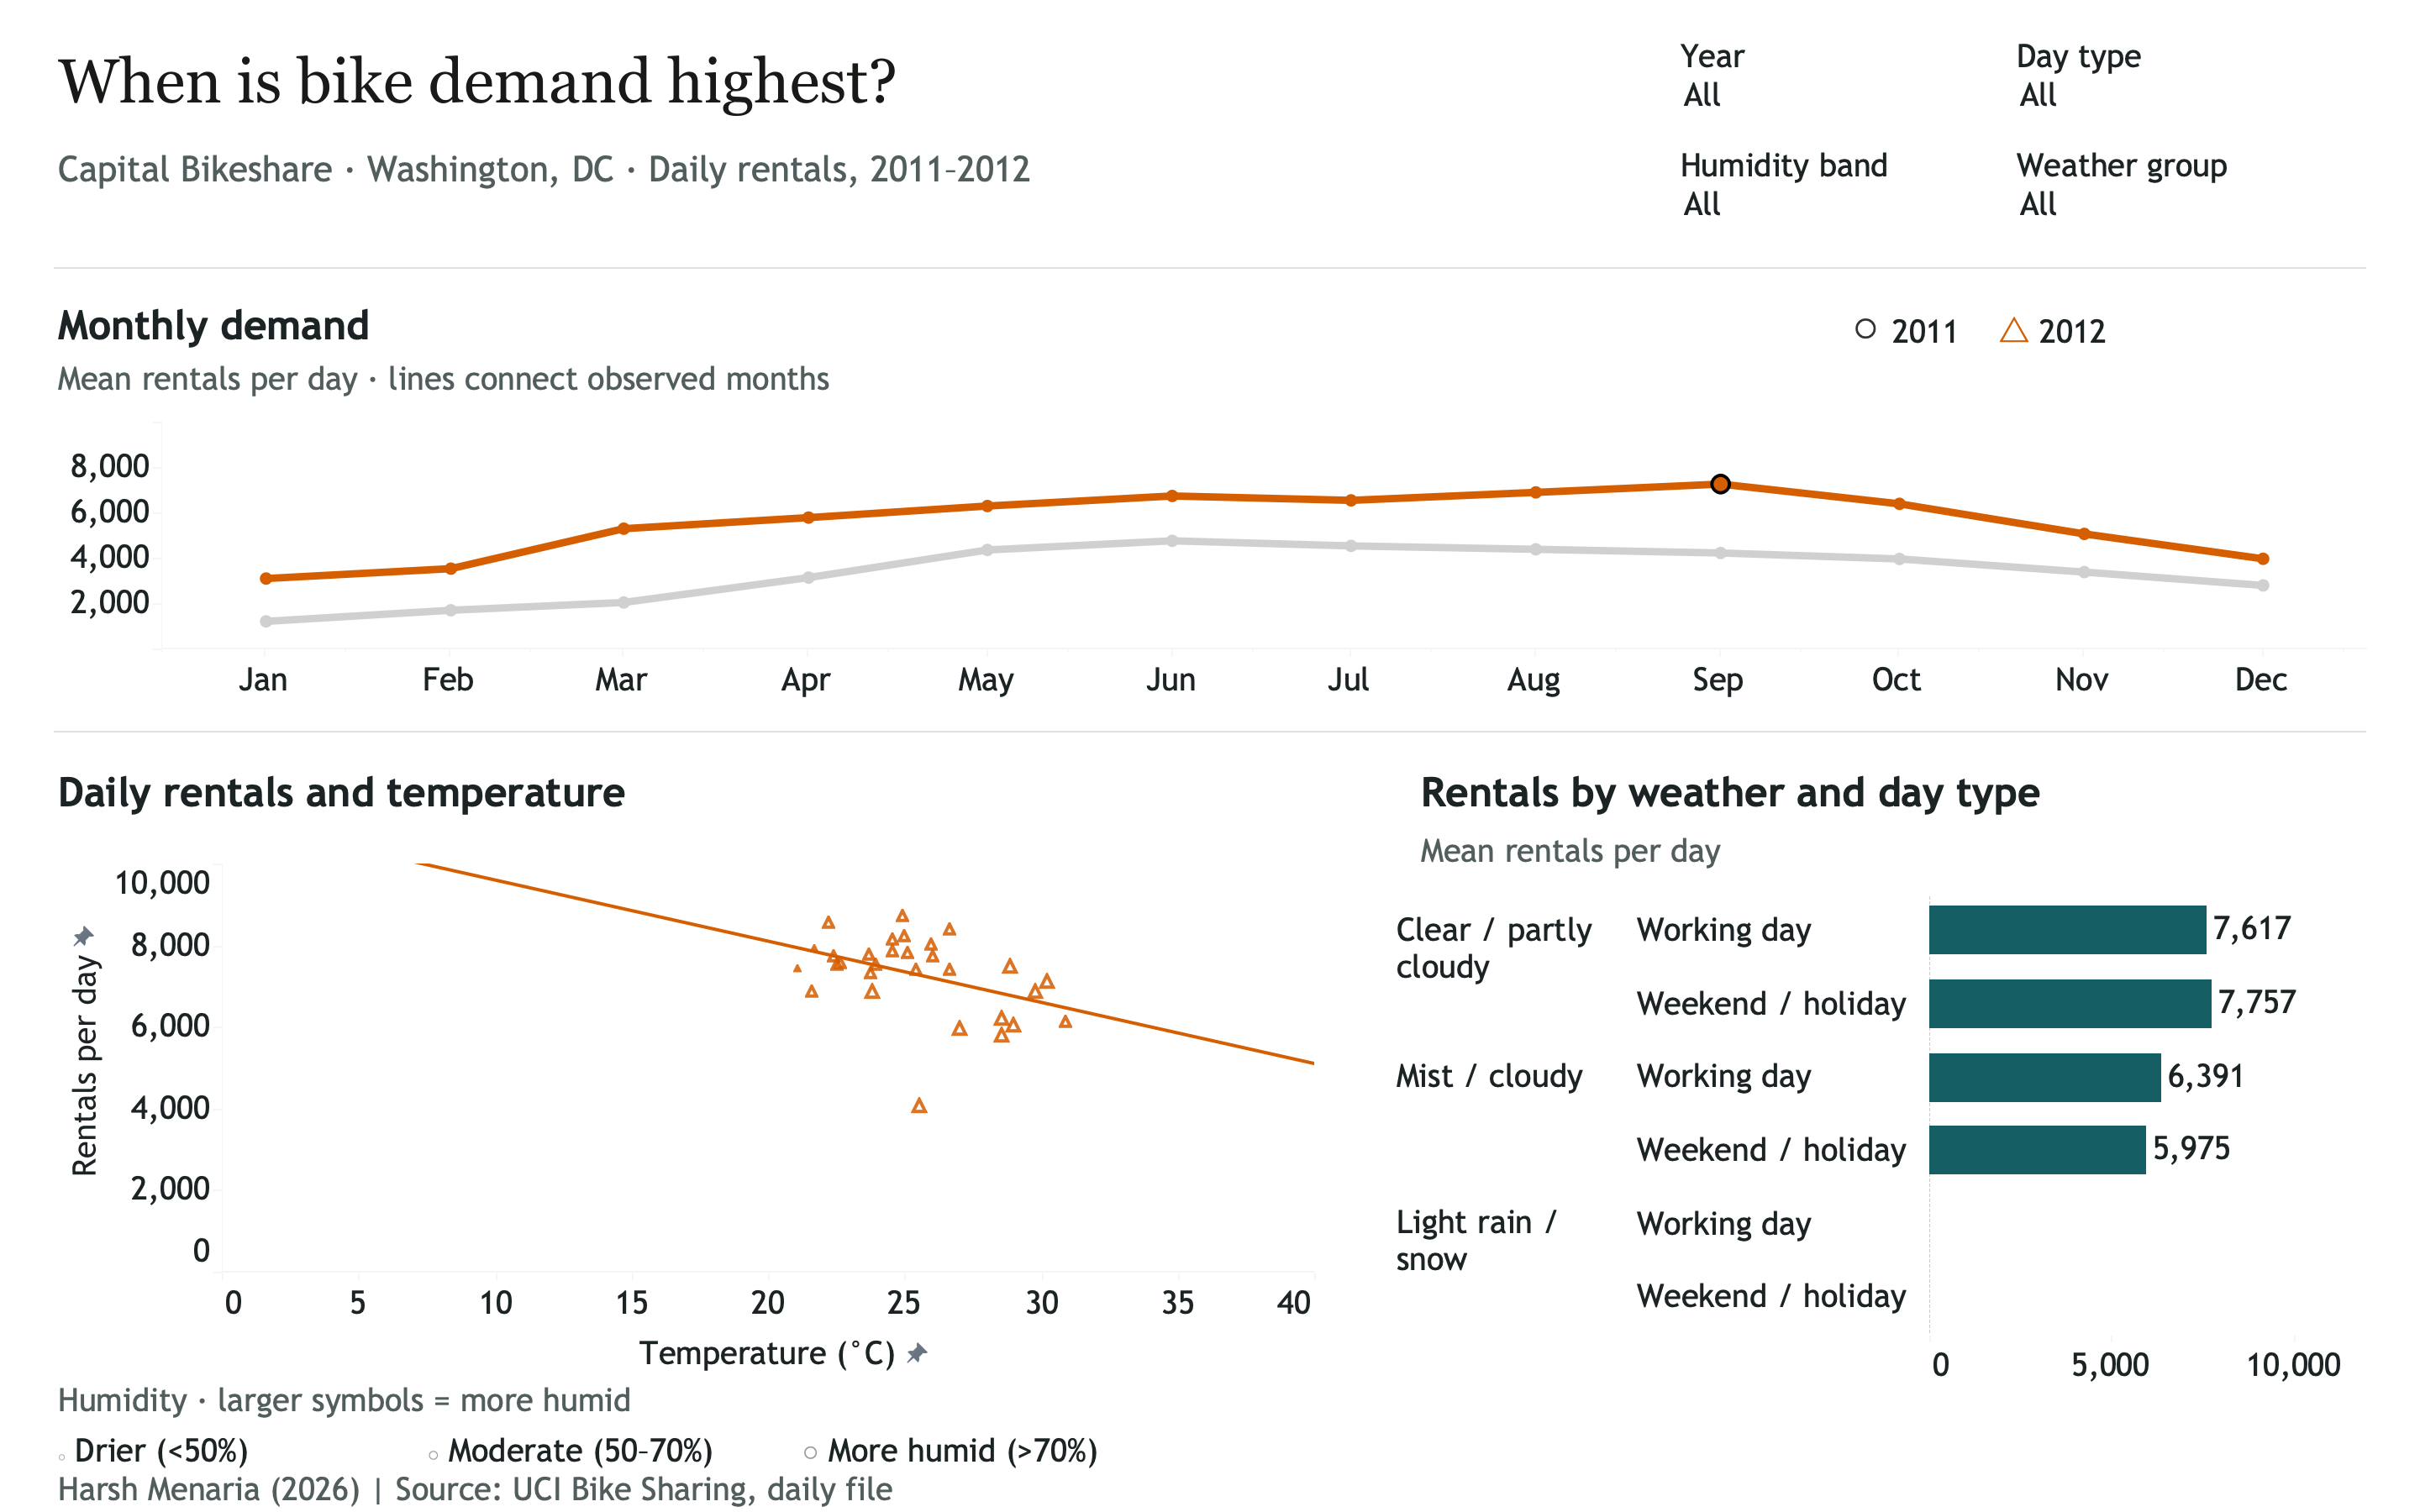

Layout of this report page (visuals, bound fields, positions):
{"tool":"tableau","page":{"name":"Bike demand | Prototype","canvas":[1440,900],"ordinal":0},"visuals":[{"type":"blank","box":[0,0,1440,900]},{"type":"filter","title":"01 Monthly demand","param":"[federated.bike_demand].[none:Year:nk]","box":[1000,21,180,54]},{"type":"filter","title":"01 Monthly demand","param":"[federated.bike_demand].[none:DayType:nk]","box":[1200,21,208,54]},{"type":"text","box":[32,23,925,52]},{"type":"text","box":[32,86,925,30]},{"type":"filter","title":"02 Temperature and rentals","param":"[federated.bike_demand].[none:Calculation_1907443823489024:nk]","box":[1000,86,180,54]},{"type":"filter","title":"01 Monthly demand","param":"[federated.bike_demand].[none:Weather:nk]","box":[1200,86,208,54]},{"type":"blank","box":[32,159,1376,1]},{"type":"text","box":[1100,178,308,34]},{"type":"text","box":[32,179,1376,29]},{"type":"text","box":[32,214,1376,24]},{"type":"worksheet","title":"01 Monthly demand","mark":"Line","rows":["DailyRentals"],"cols":["Calculation_1435546893139968"],"box":[32,251,1376,165]},{"type":"blank","box":[32,435,1376,1]},{"type":"text","box":[32,457,750,29]},{"type":"text","box":[843,457,565,29]},{"type":"text","box":[843,492,565,30]},{"type":"worksheet","title":"02 Temperature and rentals","mark":"Shape","rows":["DailyRentals"],"cols":["TemperatureC"],"box":[32,514,750,310]},{"type":"worksheet","title":"03 Weather and day type","mark":"Bar","rows":["Weather","DayType"],"cols":["DailyRentals"],"box":[825,532,583,292]},{"type":"text","box":[32,819,600,30]},{"type":"text","box":[32,846,216,35]},{"type":"text","box":[252,846,223.2,35]},{"type":"text","box":[475.2,846,302.4,35]},{"type":"text","box":[32,875,1376,23]}]}

Visuals, with their boxes in screenshot pixels (x1, y1, x2, y2), scaled from the page's 1440x900 canvas onto the 2420x1512 screenshot:
blank: [x1=0, y1=0, x2=2419, y2=1511]
"01 Monthly demand" filter: [x1=1681, y1=35, x2=1983, y2=126]
"01 Monthly demand" filter: [x1=2017, y1=35, x2=2366, y2=126]
text: [x1=54, y1=39, x2=1608, y2=126]
text: [x1=54, y1=144, x2=1608, y2=195]
"02 Temperature and rentals" filter: [x1=1681, y1=144, x2=1983, y2=235]
"01 Monthly demand" filter: [x1=2017, y1=144, x2=2366, y2=235]
blank: [x1=54, y1=267, x2=2366, y2=269]
text: [x1=1849, y1=299, x2=2366, y2=356]
text: [x1=54, y1=301, x2=2366, y2=349]
text: [x1=54, y1=360, x2=2366, y2=400]
"01 Monthly demand" worksheet (Line marks): [x1=54, y1=422, x2=2366, y2=699]
blank: [x1=54, y1=731, x2=2366, y2=732]
text: [x1=54, y1=768, x2=1314, y2=816]
text: [x1=1417, y1=768, x2=2366, y2=816]
text: [x1=1417, y1=827, x2=2366, y2=877]
"02 Temperature and rentals" worksheet (Shape marks): [x1=54, y1=864, x2=1314, y2=1384]
"03 Weather and day type" worksheet (Bar marks): [x1=1386, y1=894, x2=2366, y2=1384]
text: [x1=54, y1=1376, x2=1062, y2=1426]
text: [x1=54, y1=1421, x2=417, y2=1480]
text: [x1=423, y1=1421, x2=798, y2=1480]
text: [x1=798, y1=1421, x2=1307, y2=1480]
text: [x1=54, y1=1470, x2=2366, y2=1509]
